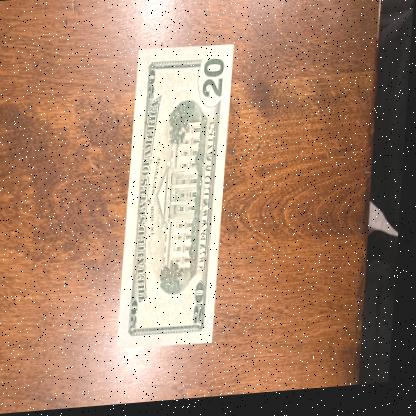twenty-back: (122, 44, 235, 351)
